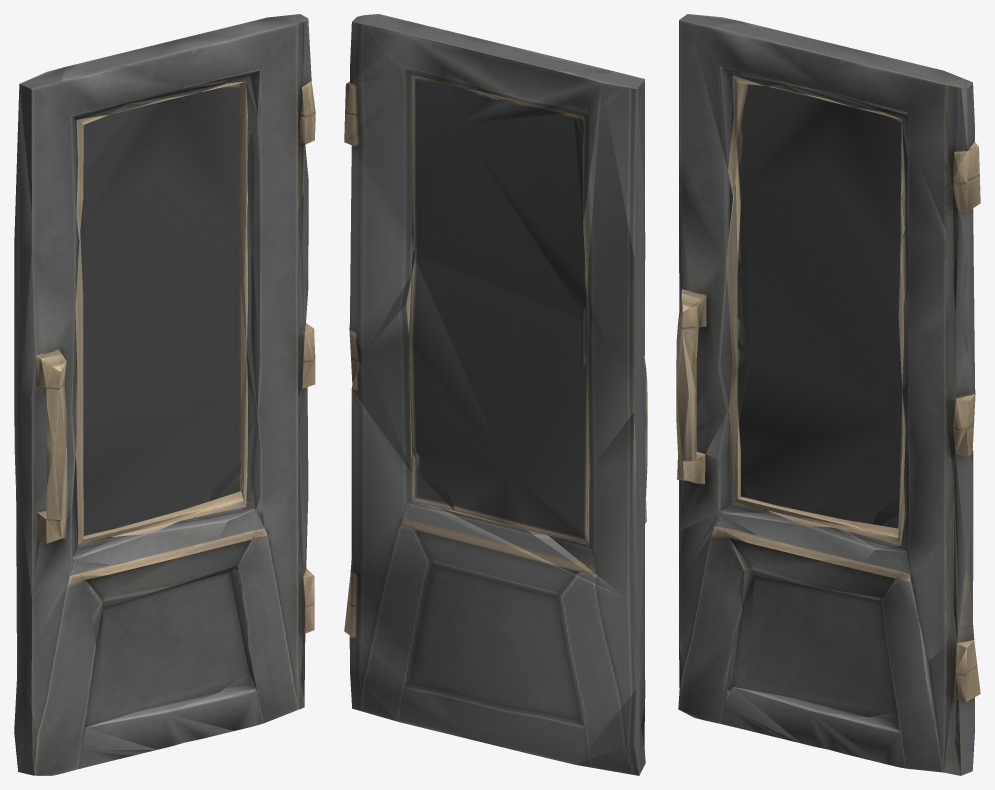
File: imperial_cultural_district__entrance_door_leaf_lod1.glb
The picture shows the model from 3 angles, left to right: view 1: azimuth 30°, elevation 25°; view 2: azimuth 150°, elevation 25°; view 3: azimuth 330°, elevation 25°; orthographic projection.
Visible parts, largest first — view 1: mesh_node; view 2: mesh_node; view 3: mesh_node.
Part boxes in pixels (bbox=[...]): mesh_node: bbox=[14, 14, 315, 775]; mesh_node: bbox=[344, 14, 647, 775]; mesh_node: bbox=[676, 14, 980, 775].
Bounding box in the file's own units: 1.08 × 2.44 × 0.1735.
1 material, 1 textured.
